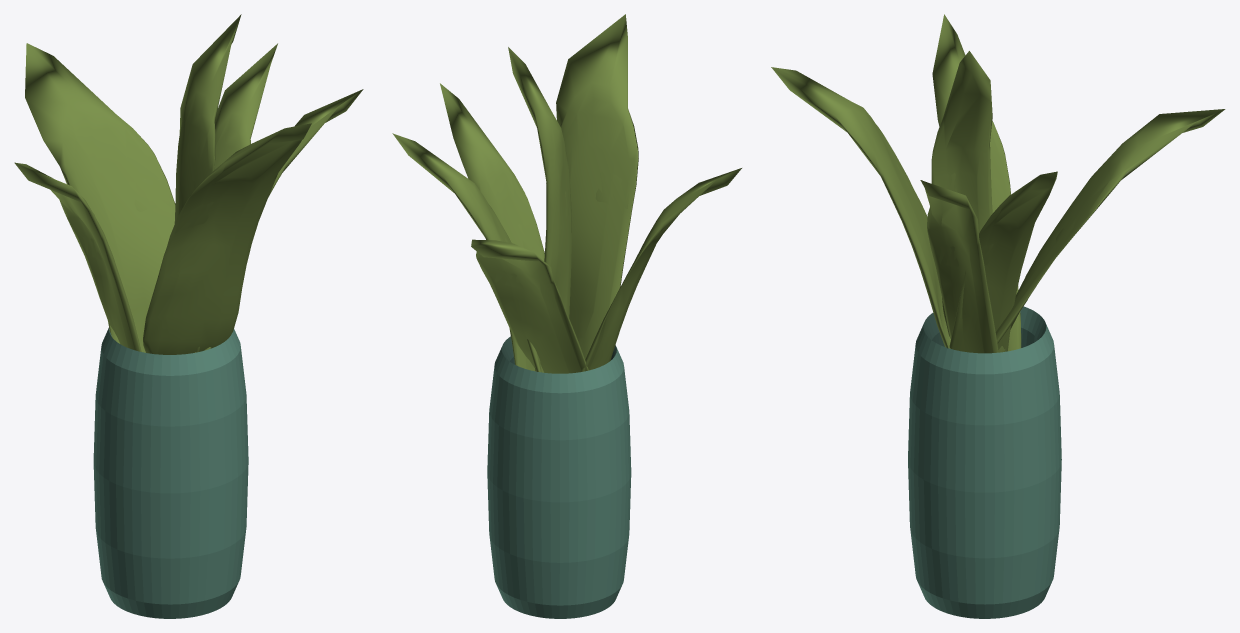
The model's file is doniczka1.glb.
3 views of the same model, side by side, from view 1: azimuth 30°, elevation 25°; view 2: azimuth 150°, elevation 25°; view 3: azimuth 270°, elevation 25° (orthographic). The views are drawn at different scales.
Parts seen in each view (by area): view 1: Torus, Mball.005, Mball.001, Mball.003, Mball.006, Mball.004, Mball.002; view 2: Torus, Mball.001, Mball.005, Mball.002, Mball.003, Mball.006, Mball.004; view 3: Torus, Mball.002, Mball.003, Mball.001, Mball.005, Mball.004, Mball.006.
Boxes of the visible parts, box(x1,y1,x2,y2) form: Torus: box(93, 328, 248, 618); Mball.005: box(25, 43, 175, 352); Mball.001: box(143, 123, 311, 354); Mball.003: box(174, 14, 241, 352); Mball.006: box(14, 162, 141, 351); Mball.004: box(204, 43, 277, 350); Mball.002: box(194, 89, 363, 352); Torus: box(487, 336, 631, 618); Mball.001: box(544, 14, 638, 359); Mball.005: box(471, 239, 588, 373); Mball.002: box(440, 83, 544, 371); Mball.003: box(508, 47, 571, 370); Mball.006: box(580, 168, 741, 371); Mball.004: box(392, 133, 543, 372); Torus: box(908, 306, 1061, 618); Mball.002: box(920, 180, 998, 353); Mball.003: box(931, 51, 1005, 352); Mball.001: box(771, 67, 950, 348); Mball.005: box(995, 109, 1225, 343); Mball.004: box(949, 171, 1057, 351); Mball.006: box(932, 14, 1021, 351).
Bounding box in the file's own units: 4.55 × 7.33 × 5.28.
Materials: 8 (8 with a texture image).
